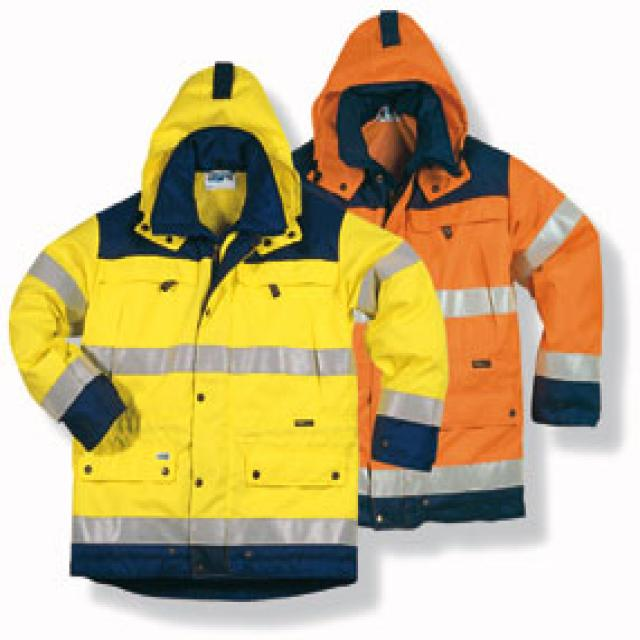Reflective-Jacket: (38, 208, 372, 600), (342, 152, 582, 528)
